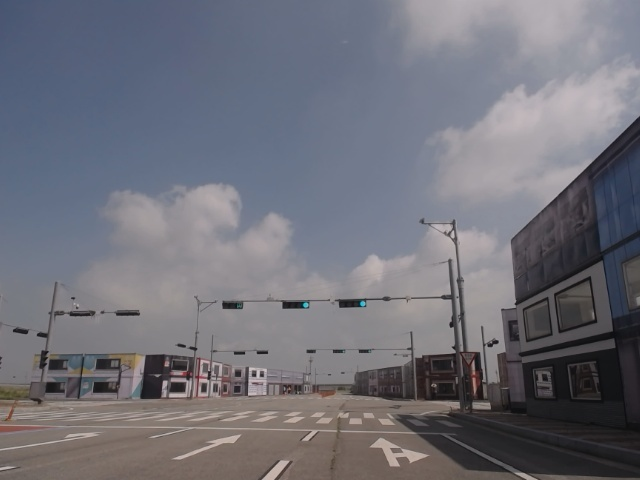straight_green_4: (280, 302, 312, 310), (340, 299, 367, 308)
